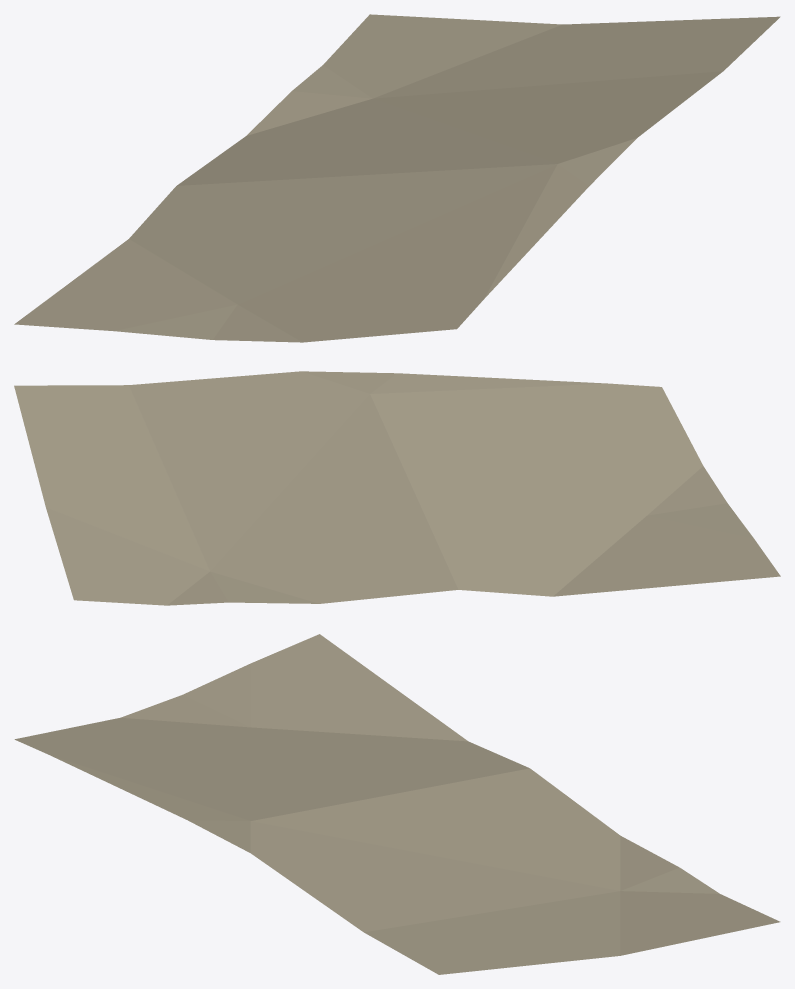
The model's file is farm_-35_-32_soil.glb.
3 views of the same model, one above another, from view 1: azimuth 30°, elevation 25°; view 2: azimuth 150°, elevation 25°; view 3: azimuth 270°, elevation 25° (orthographic). The views are drawn at different scales.
Parts seen in each view (by area): view 1: geometry_0; view 2: geometry_0; view 3: geometry_0.
Boxes of the visible parts, bbox=[...] form: geometry_0: bbox=[14, 14, 780, 342]; geometry_0: bbox=[14, 371, 780, 605]; geometry_0: bbox=[14, 634, 780, 974].
Size of the model in its own units: 207 by 19.87 by 166.
